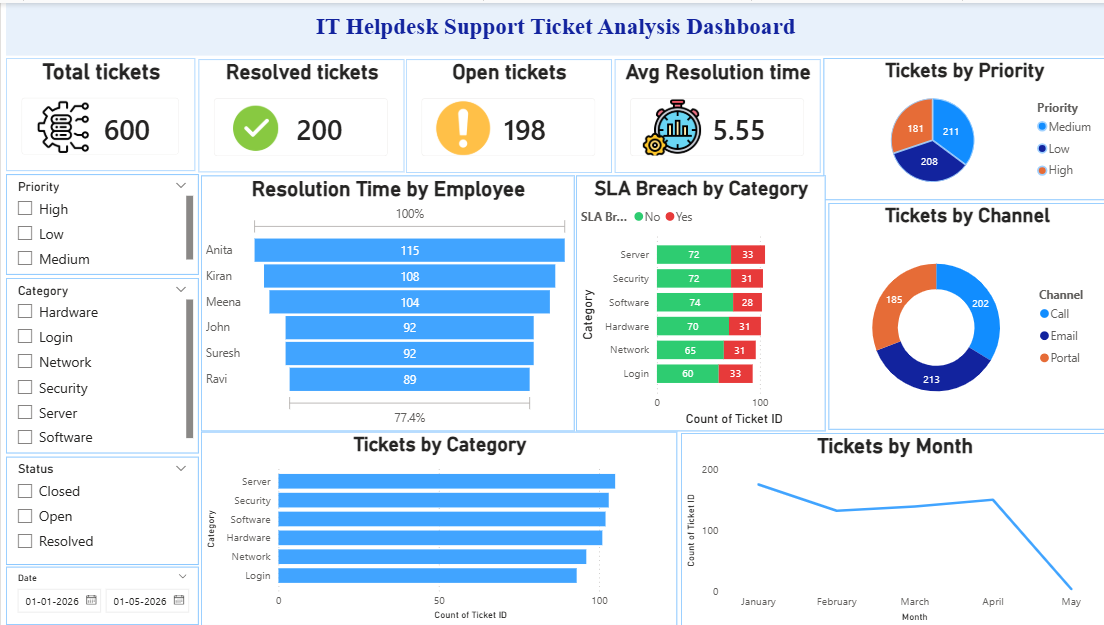

The page's visual inventory and layout, read from the dashboard file:
{"tool":"powerbi","page":{"name":"Page 1","canvas":[1280,720],"ordinal":0},"visuals":[{"type":"textbox","box":[255.6,401.9,546.4,151.6],"z":0},{"type":"textbox","box":[573.1,188.7,389.8,74.8],"z":1000},{"type":"textbox","box":[5,189,568,150],"z":2000},{"type":"textbox","box":[962.9,188.7,311.5,74.8],"z":3000},{"type":"textbox","box":[172.6,553.5,400.5,53.4],"z":4000},{"type":"textbox","box":[5.3,0,1269,60.5],"z":5000},{"type":"cardVisual","title":"Total tickets","fields":{"Data":["CountNonNull(Dataset.Ticket ID)"]},"box":[5.3,63.5,218.6,130.4],"z":6000},{"type":"cardVisual","title":"Resolved tickets","fields":{"Data":["Dataset.Resolved Tickets"]},"box":[227.4,65.2,238,130.4],"z":7000},{"type":"cardVisual","title":"Open tickets","fields":{"Data":["Dataset.Open tickets"]},"box":[467.9,64.6,237.4,130.9],"z":8000},{"type":"cardVisual","title":"Avg Resolution time","fields":{"Data":["Avg(Dataset.Resolution Time (hrs))"]},"box":[708.8,64.6,237.4,130.9],"z":9000},{"type":"pieChart","title":"Tickets by Priority ","fields":{"Y":["CountNonNull(Dataset.Priority)"],"Category":["Dataset.Priority"]},"box":[949.7,62.8,324.7,164.1],"z":10000},{"type":"slicer","fields":{"Values":["Dataset.Priority"]},"box":[5.3,197.4,222.1,116.3],"z":11000},{"type":"slicer","fields":{"Values":["Dataset.Category"]},"box":[5.3,317.3,222.1,202.7],"z":12000},{"type":"slicer","fields":{"Values":["Dataset.Status"]},"box":[5.3,523.5,222.1,125.1],"z":13000},{"type":"slicer","fields":{"Values":["Dataset.Date"]},"box":[5.3,650.4,222.1,67],"z":14000},{"type":"clusteredBarChart","title":"Tickets by Category","fields":{"Category":["Dataset.Category"],"Y":["CountNonNull(Dataset.Ticket ID)"]},"box":[230.9,495.3,549.9,223.9],"z":15000},{"type":"lineChart","title":"Tickets by Month","fields":{"Category":["Dataset.Date.Variation.Date Hierarchy.Month"],"Y":["CountNonNull(Dataset.Ticket ID)"]},"box":[782.1,495.8,492.3,223.5],"z":15500},{"type":"donutChart","title":"Tickets by Channel","fields":{"Y":["CountNonNull(Dataset.Ticket ID)"],"Series":["Dataset.Channel"]},"box":[955,230.4,319.5,261.9],"z":16000},{"type":"funnel","title":"Resolution Time by Employee","fields":{"Category":["Dataset.Assigned To"],"Y":["CountNonNull(Dataset.Resolution Time (hrs))"]},"box":[230.4,199,431.2,295],"z":18000},{"type":"barChart","title":"SLA Breach by Category","fields":{"Category":["Dataset.Category"],"Series":["Dataset.SLA Breach"],"Y":["CountNonNull(Dataset.Ticket ID)"]},"box":[663.4,199,288.1,295],"z":19000}]}

Visuals, with their boxes in screenshot pixels (x1, y1, x2, y2), scaled from the page's 1280x720 canvas onto the 1104x625 screenshot:
textbox: (left=220, top=349, right=692, bottom=480)
textbox: (left=494, top=164, right=831, bottom=229)
textbox: (left=4, top=164, right=494, bottom=294)
textbox: (left=831, top=164, right=1099, bottom=229)
textbox: (left=149, top=480, right=494, bottom=527)
textbox: (left=5, top=0, right=1099, bottom=53)
"Total tickets" cardVisual: (left=5, top=55, right=193, bottom=168)
"Resolved tickets" cardVisual: (left=196, top=57, right=401, bottom=170)
"Open tickets" cardVisual: (left=404, top=56, right=608, bottom=170)
"Avg Resolution time" cardVisual: (left=611, top=56, right=816, bottom=170)
"Tickets by Priority " pieChart: (left=819, top=55, right=1099, bottom=197)
slicer - Dataset.Priority: (left=5, top=171, right=196, bottom=272)
slicer - Dataset.Category: (left=5, top=275, right=196, bottom=451)
slicer - Dataset.Status: (left=5, top=454, right=196, bottom=563)
slicer - Dataset.Date: (left=5, top=565, right=196, bottom=623)
"Tickets by Category" clusteredBarChart: (left=199, top=430, right=673, bottom=624)
"Tickets by Month" lineChart: (left=675, top=430, right=1099, bottom=624)
"Tickets by Channel" donutChart: (left=824, top=200, right=1099, bottom=427)
"Resolution Time by Employee" funnel: (left=199, top=173, right=571, bottom=429)
"SLA Breach by Category" barChart: (left=572, top=173, right=821, bottom=429)
